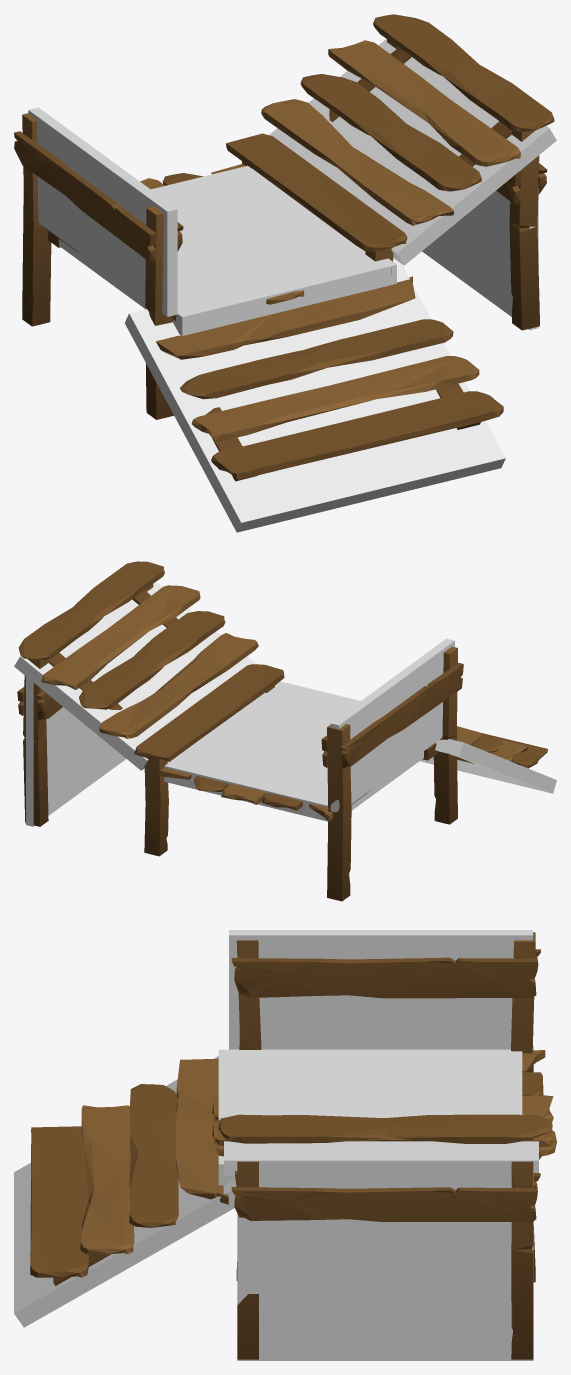
File: wood_stairs_corner.glb
The picture shows the model from 3 angles, top to bottom: view 1: azimuth 30°, elevation 25°; view 2: azimuth 150°, elevation 25°; view 3: azimuth 270°, elevation 25°; orthographic projection. The views are drawn at different scales.
Visible parts, largest first — view 1: Stairs_01, Cube.003, Cube.009, Cube.008, Cube.006, Cube.001; view 2: Stairs_01, Cube.009, Cube.006, Cube.008, Cube.001, Cube.003; view 3: Stairs_01, Cube.001, Cube.008, Cube.009, Cube.003, Cube.006.
Part boxes in pixels (bbox=[...]): Stairs_01: bbox=[14, 14, 554, 481]; Cube.003: bbox=[125, 258, 505, 532]; Cube.009: bbox=[59, 165, 396, 335]; Cube.008: bbox=[28, 107, 177, 316]; Cube.006: bbox=[269, 39, 556, 265]; Cube.001: bbox=[422, 188, 538, 330]; Stairs_01: bbox=[17, 561, 547, 901]; Cube.009: bbox=[164, 681, 423, 821]; Cube.006: bbox=[14, 582, 256, 770]; Cube.008: bbox=[330, 638, 454, 812]; Cube.001: bbox=[26, 676, 126, 826]; Cube.003: bbox=[420, 739, 556, 793]; Stairs_01: bbox=[30, 932, 556, 1359]; Cube.001: bbox=[237, 1161, 533, 1360]; Cube.008: bbox=[229, 930, 532, 1050]; Cube.009: bbox=[218, 1049, 522, 1185]; Cube.003: bbox=[14, 1056, 236, 1327]; Cube.006: bbox=[224, 1141, 538, 1175].
Bounding box in the file's own units: 2.72 × 1.56 × 2.83.
1 material, 1 textured.
